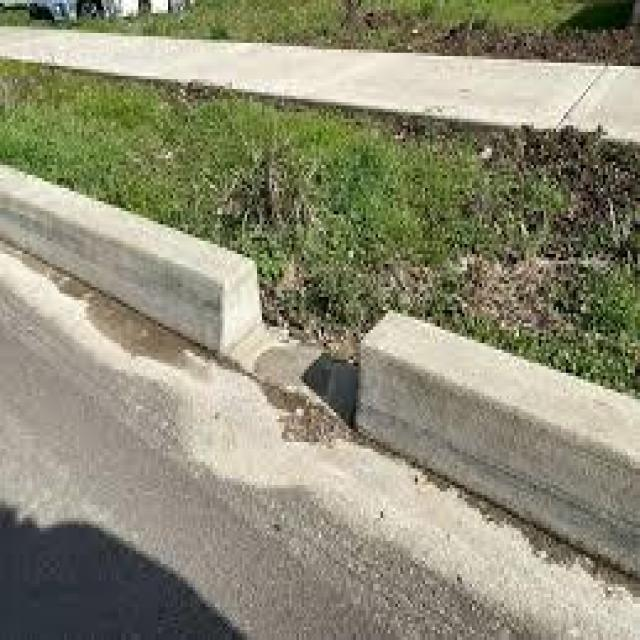bump: (348, 305, 640, 603), (2, 162, 272, 370)
